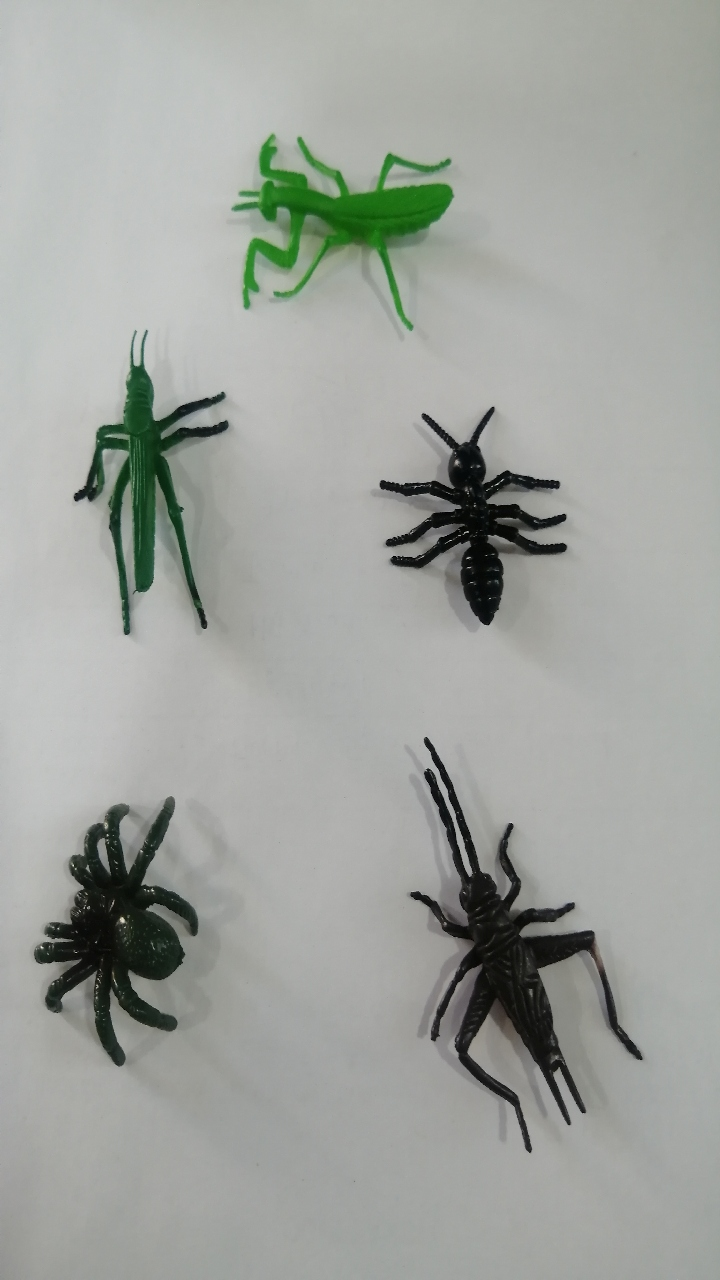intruso: (377, 702, 669, 1163), (195, 102, 488, 359), (12, 768, 241, 1086), (48, 312, 241, 671), (348, 360, 578, 646)
